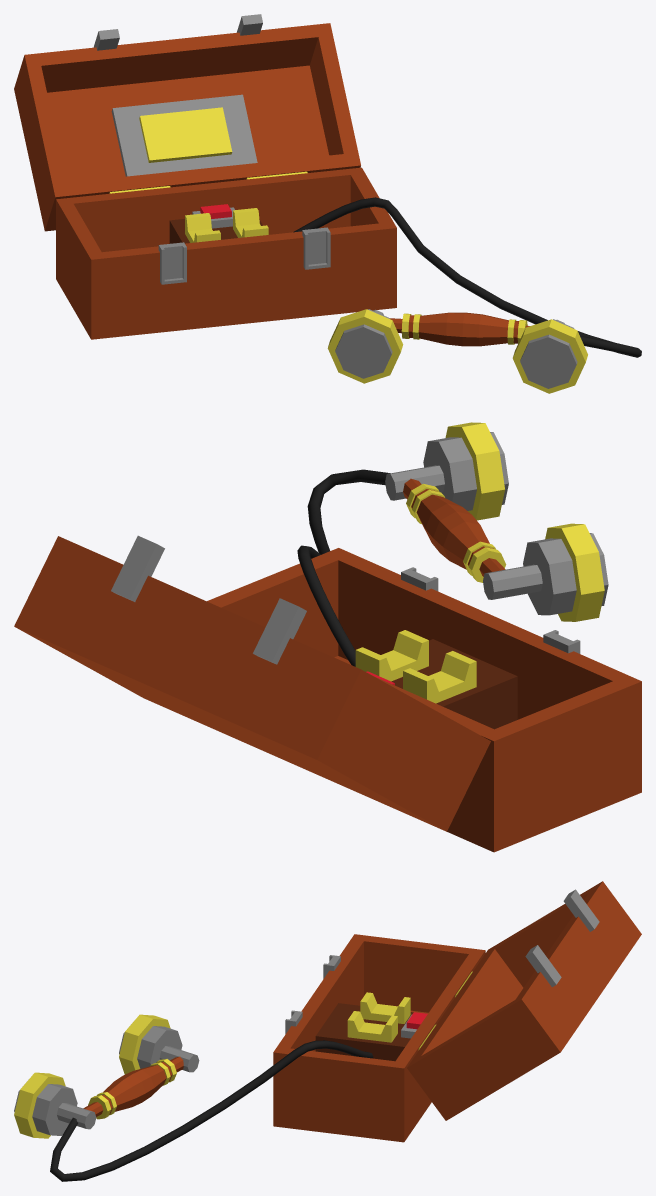
File: Obj4-Telefono.glb
3 views of the same model, one above another, from view 1: azimuth 30°, elevation 25°; view 2: azimuth 150°, elevation 25°; view 3: azimuth 270°, elevation 25° (orthographic). The views are drawn at different scales.
Parts seen in each view (by area): view 1: Cube.955, Cube.954, Cylinder.061, Cube.947, Cube.946, Cylinder.059, BezierCurve, Cube.953, Cube.951, Cube.948, Cube.952; view 2: Cube.954, Cube.955, Cylinder.061, Cylinder.059, Cube.951, Cube.952, Cube.948, BezierCurve, Cylinder.060, Cube.953; view 3: Cube.954, Cube.955, Cylinder.061, BezierCurve, Cylinder.059, Cube.952, Cube.951, Cube.948, Cylinder.060, Cube.953.
Part boxes in pixels (<box>): Cube.955: <box>56,167,396,339</box>; Cube.954: <box>14,23,360,231</box>; Cylinder.061: <box>327,309,587,393</box>; Cube.947: <box>111,94,257,176</box>; Cube.946: <box>139,107,232,162</box>; Cylinder.059: <box>389,312,529,346</box>; BezierCurve: <box>293,197,641,357</box>; Cube.953: <box>158,227,330,284</box>; Cube.951: <box>185,208,268,242</box>; Cube.948: <box>93,14,262,50</box>; Cube.952: <box>169,219,262,243</box>; Cube.954: <box>14,536,490,831</box>; Cube.955: <box>207,548,641,852</box>; Cylinder.061: <box>423,422,608,621</box>; Cylinder.059: <box>403,478,506,582</box>; Cube.951: <box>355,630,476,703</box>; Cube.952: <box>391,639,517,729</box>; Cube.948: <box>111,535,306,664</box>; BezierCurve: <box>297,469,390,666</box>; Cylinder.060: <box>385,465,542,599</box>; Cube.953: <box>401,567,580,653</box>; Cube.954: <box>407,881,641,1120</box>; Cube.955: <box>273,934,485,1142</box>; Cylinder.061: <box>14,1014,182,1138</box>; BezierCurve: <box>50,1040,373,1181</box>; Cylinder.059: <box>83,1056,183,1119</box>; Cube.952: <box>315,1003,413,1061</box>; Cube.951: <box>347,992,410,1042</box>; Cube.948: <box>525,889,599,987</box>; Cylinder.060: <box>56,1046,199,1129</box>; Cube.953: <box>285,955,340,1034</box>.
Bounding box in the file's own units: 0.362 × 0.1672 × 0.5407.
